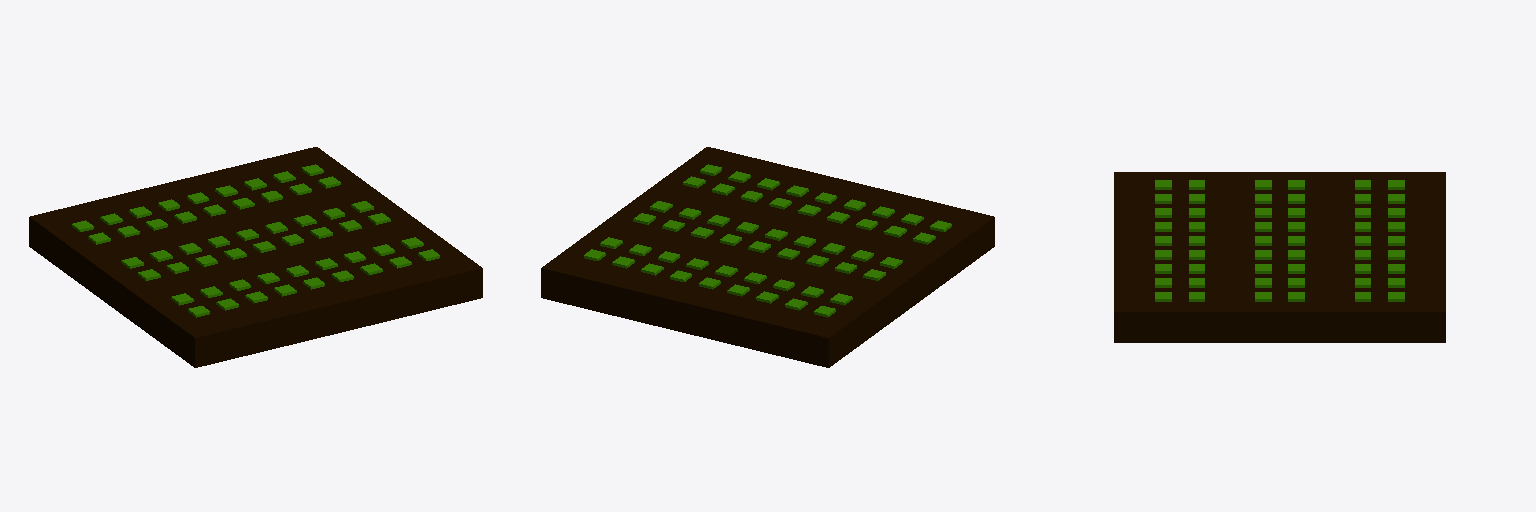
The model's file is Crop1.obj.
The picture shows the model from 3 angles: view 1: azimuth 30°, elevation 25°; view 2: azimuth 150°, elevation 25°; view 3: azimuth 270°, elevation 25°; orthographic projection.
Parts seen in each view (by area): view 1: CropBare001, Box634; view 2: CropBare001, Box634; view 3: CropBare001, Box634.
Part boxes in pixels (x1,y1,x2,y2): CropBare001: (29, 147, 482, 367); Box634: (72, 164, 439, 317); CropBare001: (541, 147, 994, 367); Box634: (584, 164, 951, 317); CropBare001: (1114, 172, 1445, 342); Box634: (1155, 180, 1404, 301).
Bounding box in the file's own units: 10 × 1.09 × 10.